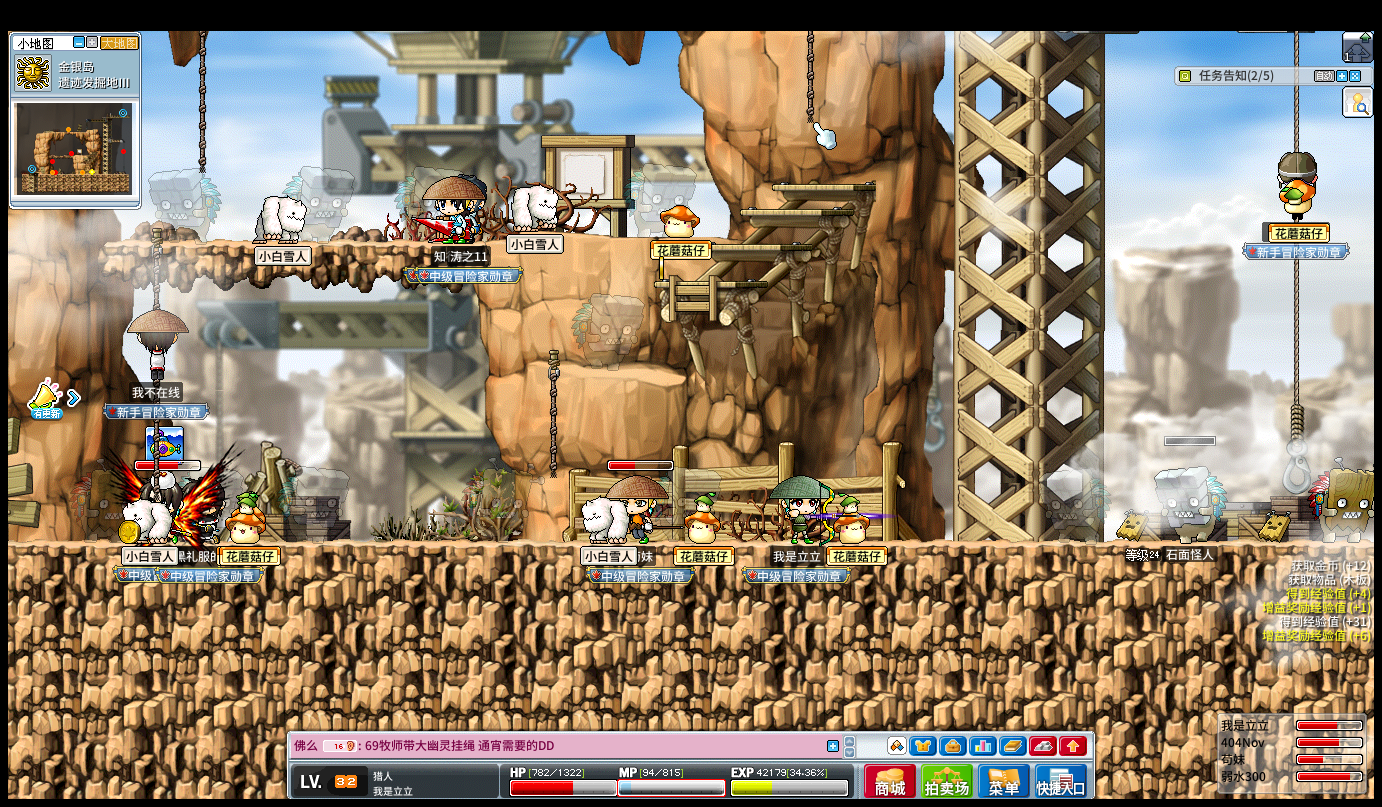floor: (108, 237, 473, 249), (576, 364, 688, 385), (650, 279, 766, 291), (738, 205, 851, 215), (602, 233, 738, 241), (652, 279, 765, 287), (704, 243, 810, 251), (736, 207, 848, 214), (771, 184, 875, 191)
monster: (570, 290, 643, 370), (1307, 461, 1378, 543), (148, 168, 223, 240), (1156, 465, 1227, 541), (289, 164, 356, 241), (1045, 466, 1110, 542), (73, 461, 128, 540), (624, 166, 700, 210)
rope: (546, 350, 561, 482), (1291, 257, 1302, 407), (198, 30, 207, 176), (151, 230, 162, 310), (1292, 29, 1299, 148), (805, 29, 813, 124), (1289, 400, 1304, 442)
